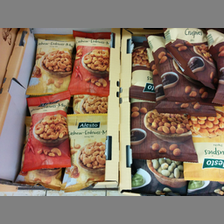nuts: (19, 90, 72, 174), (132, 97, 198, 164), (61, 113, 107, 192), (164, 28, 215, 90), (25, 33, 75, 96), (69, 30, 109, 97)
